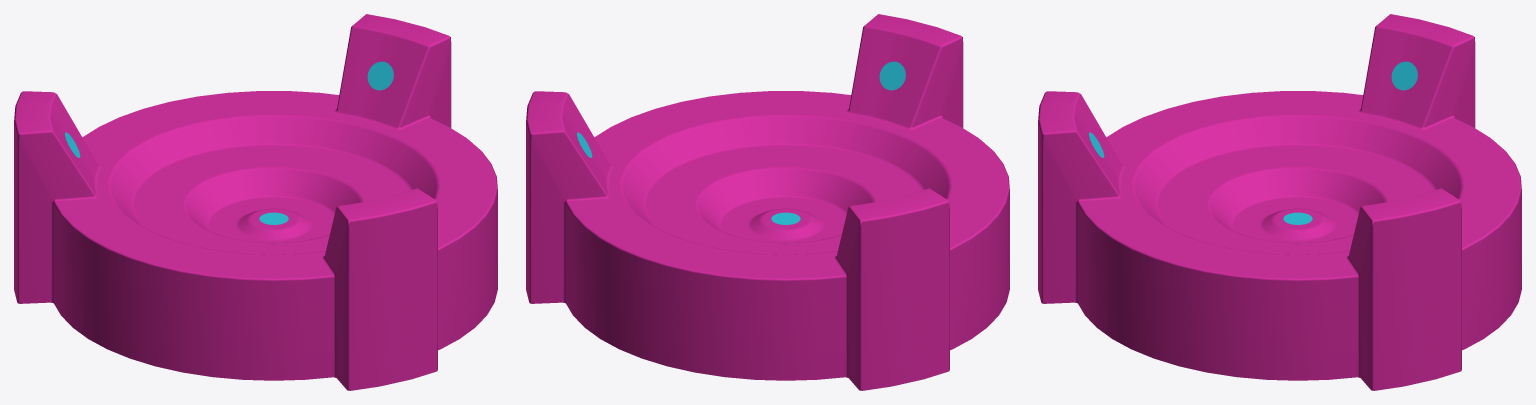
The model's file is Proyector_001.FBX.
The picture shows the model from 3 angles, left to right: view 1: azimuth 30°, elevation 25°; view 2: azimuth 150°, elevation 25°; view 3: azimuth 270°, elevation 25°; orthographic projection.
Visible parts, largest first — view 1: Cylinder007; view 2: Cylinder007; view 3: Cylinder007.
Part boxes in pixels (bbox=[...]): Cylinder007: bbox=[14, 14, 497, 390]; Cylinder007: bbox=[526, 14, 1009, 390]; Cylinder007: bbox=[1038, 14, 1521, 390].
Size of the model in its own units: 219 by 84.57 by 216.
